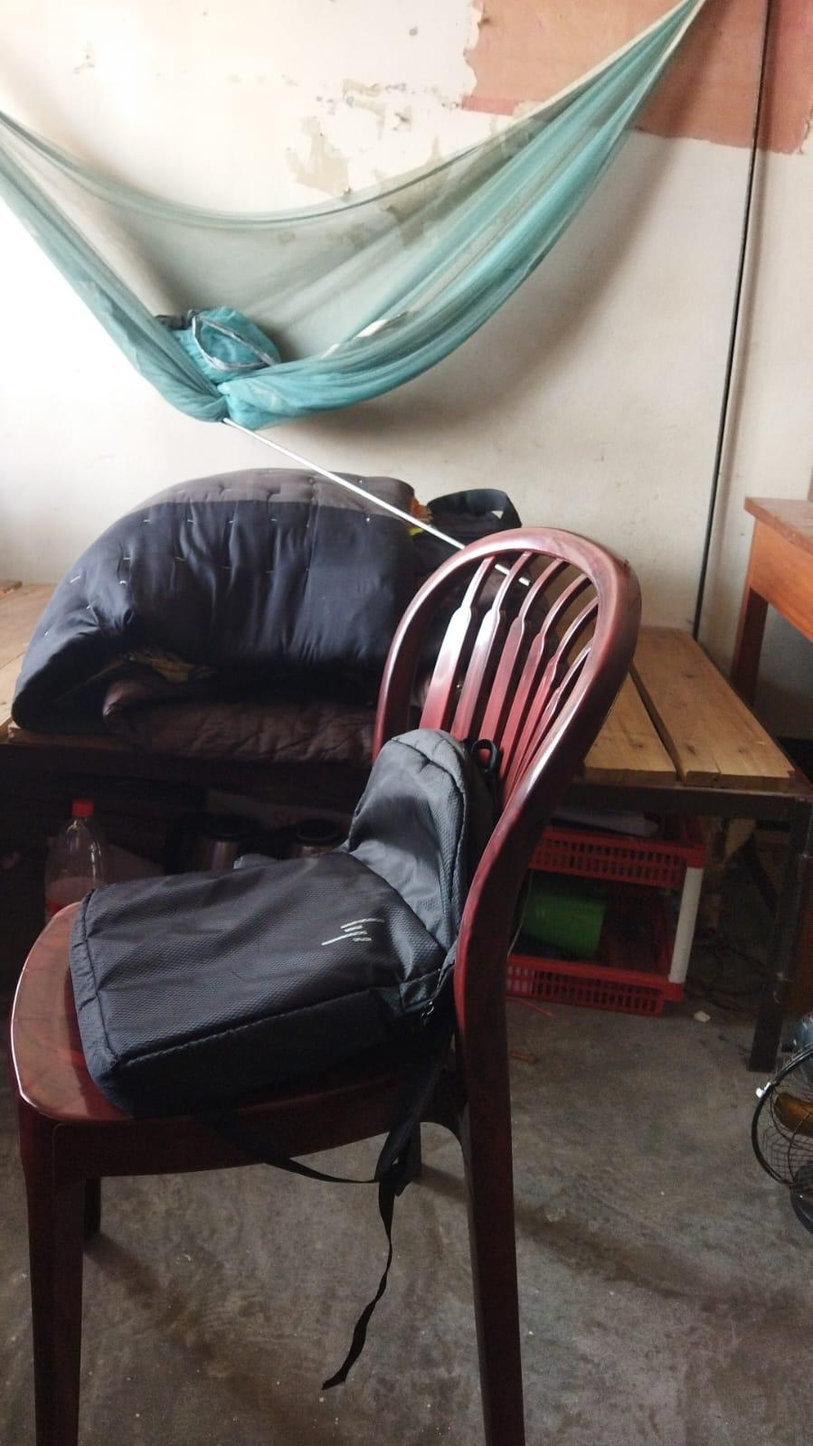Bag: (74, 705, 464, 1116)
Chair: (11, 537, 623, 1446)
